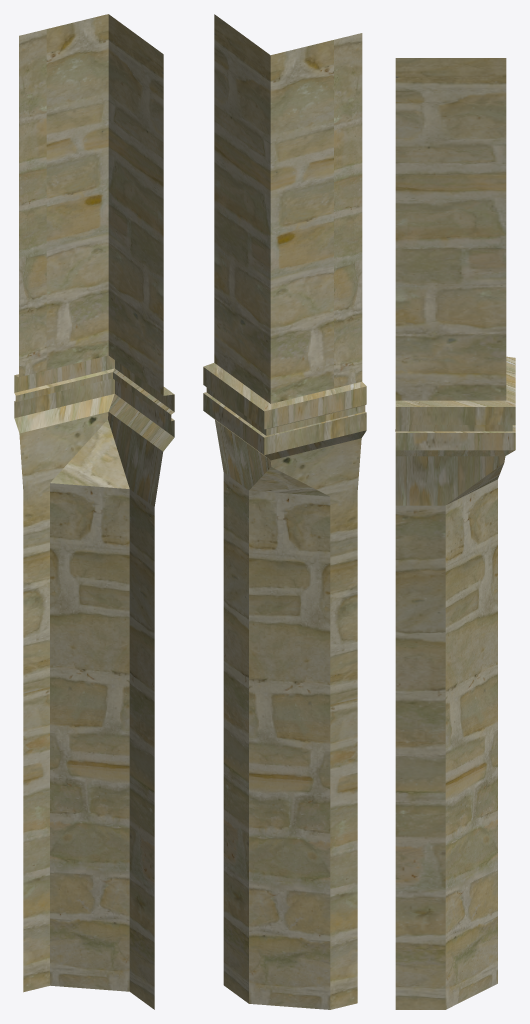
File: RestOfTheMosque3.fbx
3 renders of one model, left to right at view 1: azimuth 30°, elevation 25°; view 2: azimuth 210°, elevation 25°; view 3: azimuth 270°, elevation 25°, orthographic. The views are drawn at different scales.
Visible parts, largest first — view 1: Circle.014; view 2: Circle.014; view 3: Circle.014.
Boxes of the visible parts, x1,y1,x2,y2 form: Circle.014: (14,14,174,1009); Circle.014: (203,14,366,1009); Circle.014: (395,58,515,1009).
Size of the model in its own units: 132 by 1195 by 136.
